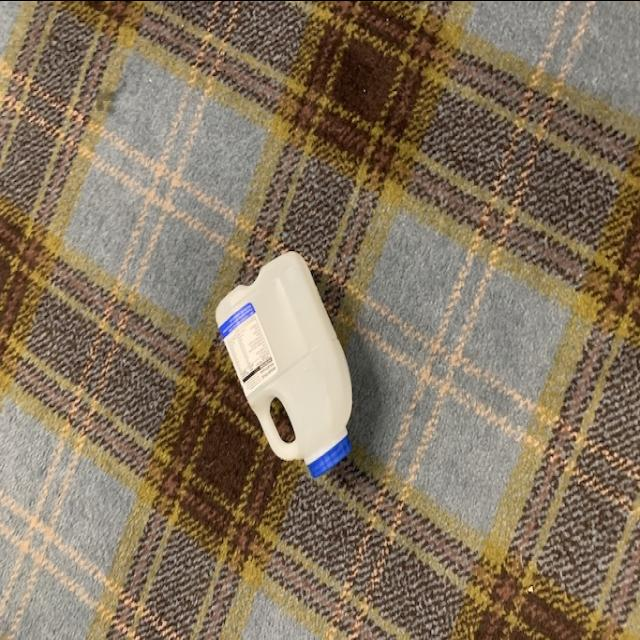litter: (214, 249, 358, 479)
